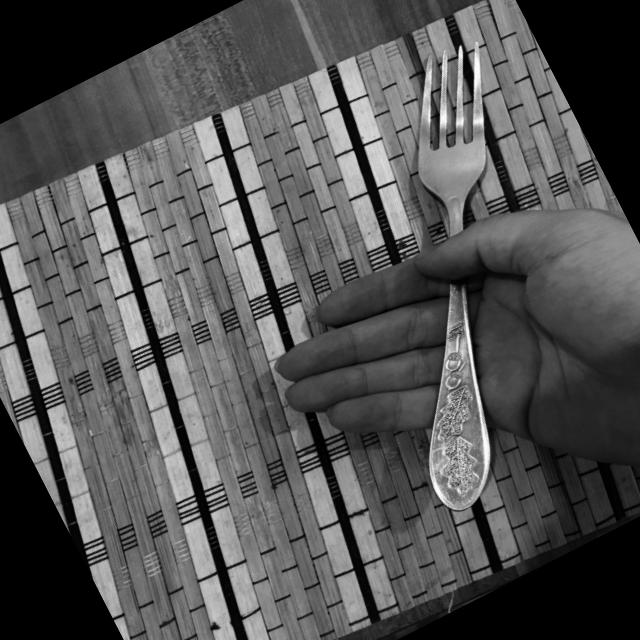fork: (259, 29, 640, 534)
